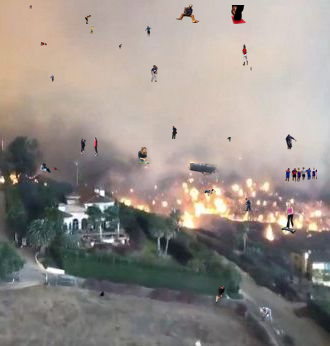Human: (285, 167, 317, 183), (220, 5, 246, 24), (185, 163, 220, 177), (281, 202, 296, 234), (175, 4, 200, 23), (251, 307, 273, 323), (80, 137, 98, 156), (285, 134, 297, 152), (138, 147, 150, 164), (40, 163, 60, 173), (242, 44, 250, 66), (215, 286, 225, 303), (199, 189, 216, 196), (151, 65, 158, 82), (245, 198, 251, 211), (145, 26, 152, 37), (172, 126, 177, 139), (99, 290, 107, 297), (85, 15, 91, 24), (89, 25, 94, 34), (50, 74, 54, 82), (40, 42, 47, 46), (227, 137, 231, 142), (119, 44, 122, 49), (29, 5, 32, 9), (250, 67, 252, 71), (9, 280, 11, 283), (238, 276, 239, 279)
